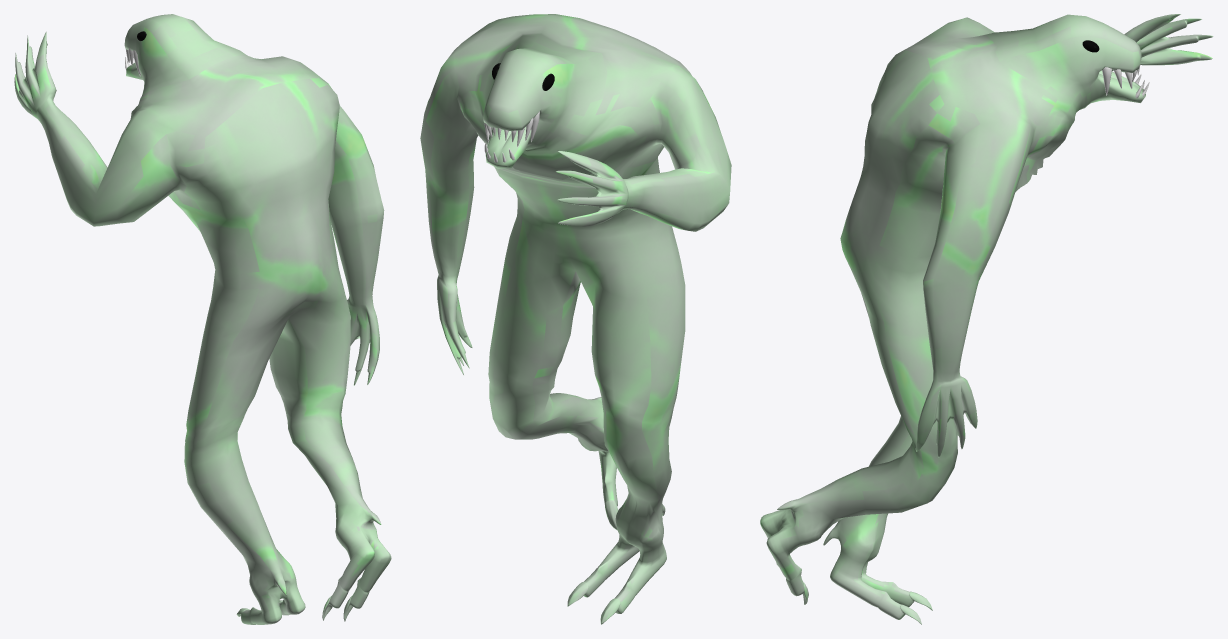
File: Berserkercorrer.0048.obj
3 views of the same model, side by side, from view 1: azimuth 30°, elevation 25°; view 2: azimuth 150°, elevation 25°; view 3: azimuth 270°, elevation 25° (orthographic). The views are drawn at different scales.
Parts seen in each view (by area): view 1: polySurface27; view 2: polySurface27; view 3: polySurface27.
Boxes of the visible parts, bbox=[...] form: polySurface27: bbox=[14, 14, 391, 624]; polySurface27: bbox=[420, 14, 731, 624]; polySurface27: bbox=[760, 14, 1213, 624].
Size of the model in its own units: 11.64 by 22.55 by 15.72.
1 material, 1 textured.
